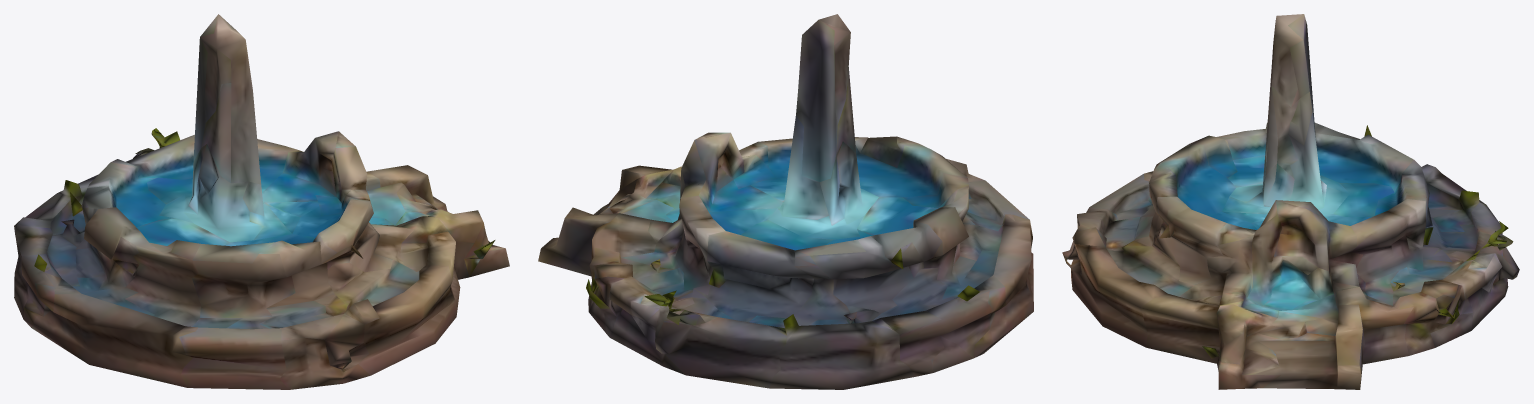
File: fountain_blue.lo.glb
3 views of the same model, side by side, from view 1: azimuth 30°, elevation 25°; view 2: azimuth 150°, elevation 25°; view 3: azimuth 270°, elevation 25° (orthographic). The views are drawn at different scales.
Parts seen in each view (by area): view 1: tripo_node_2743f40d-a345-41b3-9584-5a4e71d39714; view 2: tripo_node_2743f40d-a345-41b3-9584-5a4e71d39714; view 3: tripo_node_2743f40d-a345-41b3-9584-5a4e71d39714.
Boxes of the visible parts, <box> form: tripo_node_2743f40d-a345-41b3-9584-5a4e71d39714: <box>14,14,509,389</box>; tripo_node_2743f40d-a345-41b3-9584-5a4e71d39714: <box>538,14,1033,389</box>; tripo_node_2743f40d-a345-41b3-9584-5a4e71d39714: <box>1062,14,1519,389</box>.
Size of the model in its own units: 0.9965 by 0.6254 by 0.98.
Materials: 1 (1 with a texture image).
